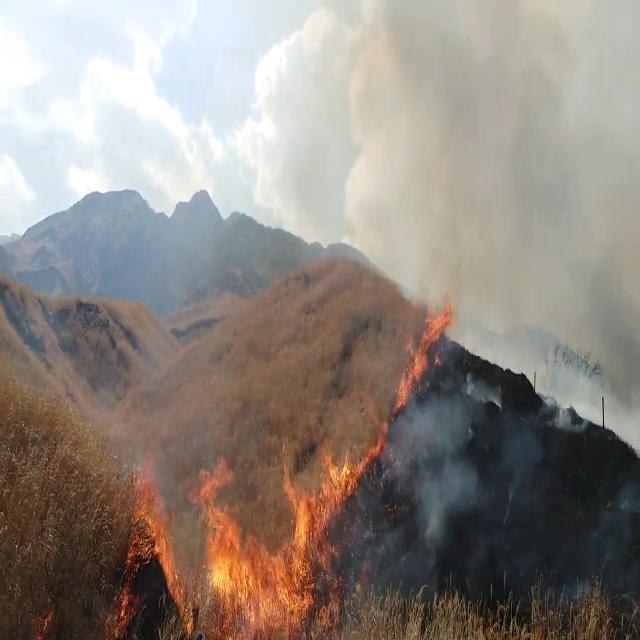Fire: (128, 440, 360, 633), (394, 293, 452, 407)
Smoke: (374, 372, 496, 552)
